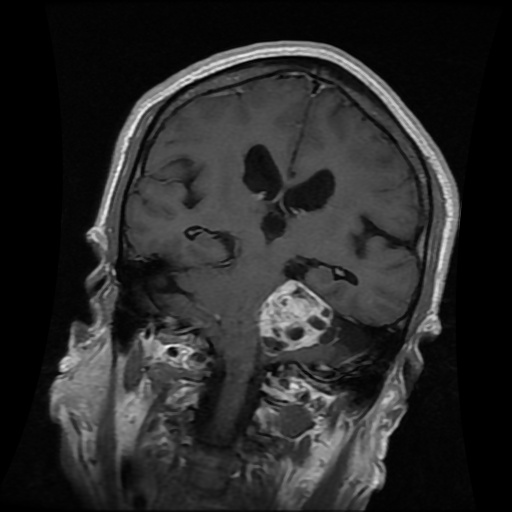meningioma: (260, 279, 334, 357)
